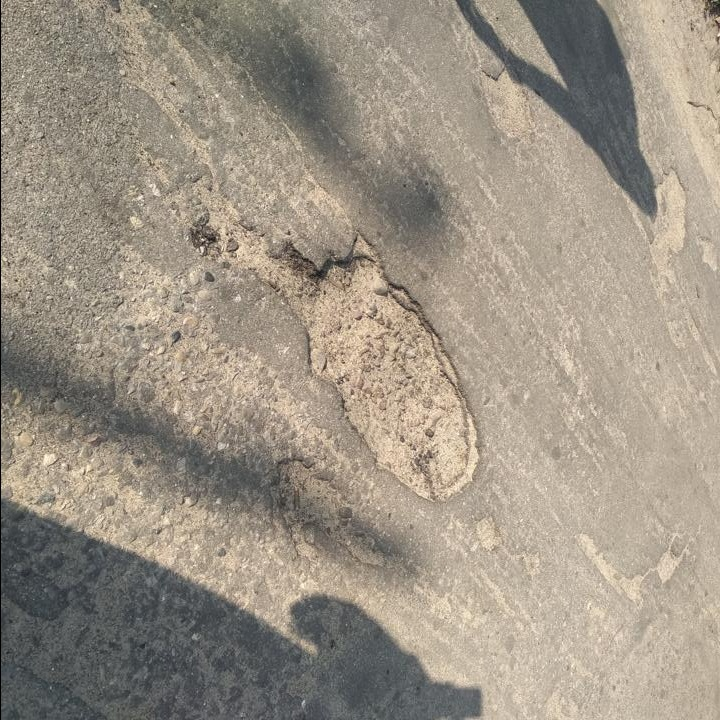pothole: (228, 212, 485, 504), (271, 455, 393, 575), (575, 517, 689, 606), (478, 57, 538, 148), (640, 166, 689, 267), (474, 512, 504, 554), (696, 235, 720, 272)
